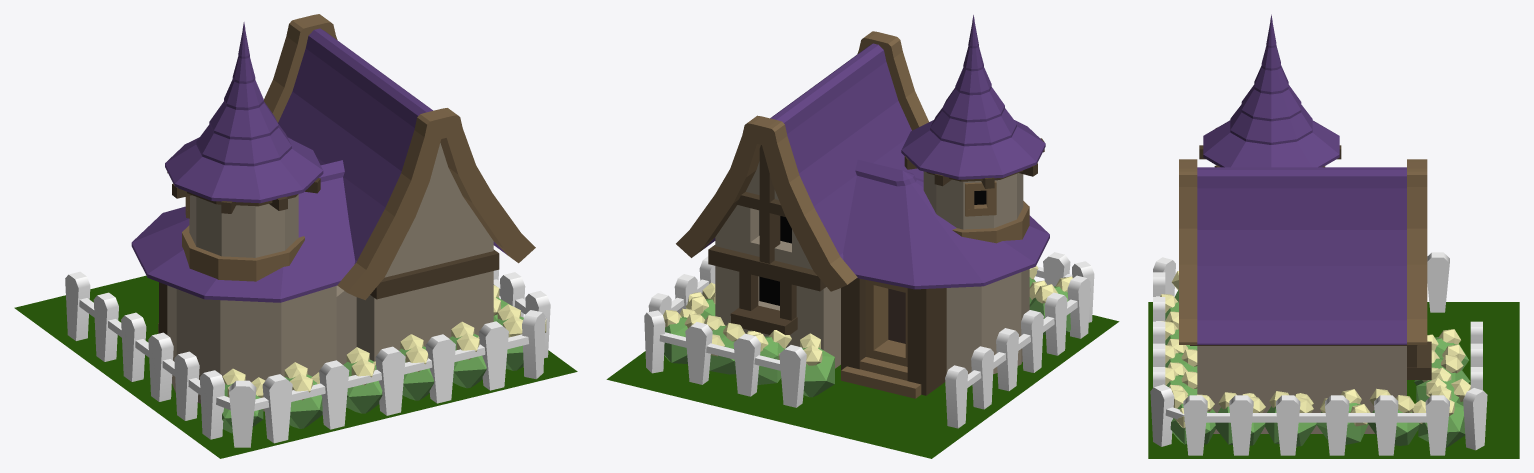
Rendered from house.fbx.
3 renders of one model, left to right at view 1: azimuth 30°, elevation 25°; view 2: azimuth 150°, elevation 25°; view 3: azimuth 270°, elevation 25°, orthographic. The views are drawn at different scales.
Visible parts, largest first — view 1: Lader1; view 2: Lader1; view 3: Lader1.
Part boxes in pixels (left/top/right/bottom): Lader1: left=14, top=14, right=577, bottom=458; Lader1: left=606, top=15, right=1119, bottom=458; Lader1: left=1148, top=14, right=1519, bottom=458.
Size of the model in its own units: 6 by 5.9 by 6.
